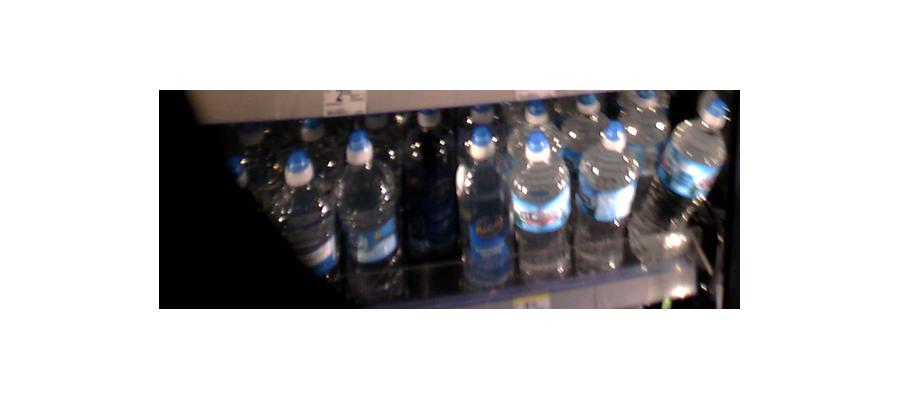bottle: (638, 104, 728, 300), (334, 124, 399, 301), (407, 110, 461, 292), (574, 124, 636, 275), (514, 121, 570, 281), (461, 120, 513, 291), (275, 141, 334, 279)
